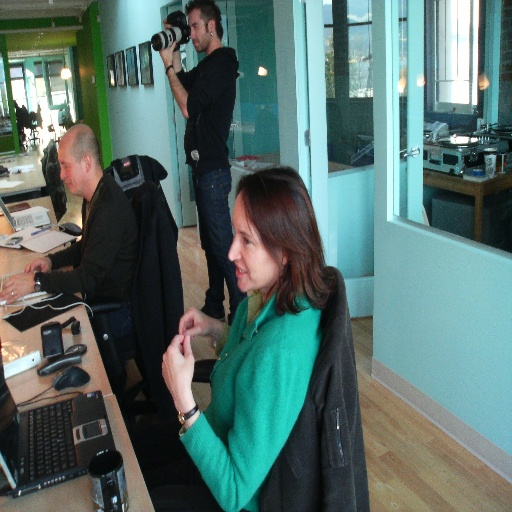hand: (155, 331, 194, 418), (177, 304, 216, 338), (0, 267, 35, 303), (158, 39, 176, 66), (23, 254, 50, 271), (161, 18, 171, 28)
